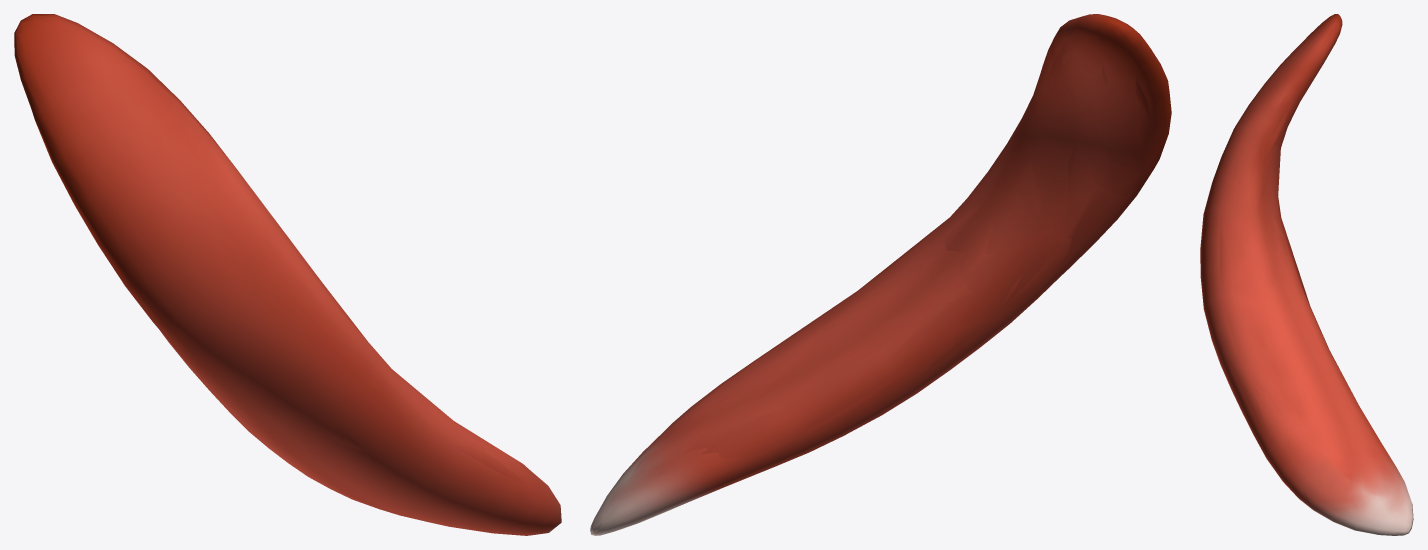
The model's file is R Subclavius.fbx.
3 renders of one model, left to right at view 1: azimuth 30°, elevation 25°; view 2: azimuth 150°, elevation 25°; view 3: azimuth 270°, elevation 25°, orthographic. The views are drawn at different scales.
Parts seen in each view (by area): view 1: R Subclavius, R Subclavius low; view 2: R Subclavius, R Subclavius low; view 3: R Subclavius, R Subclavius low.
Boxes of the visible parts, x1,y1,x2,y2 form: R Subclavius: [14, 14, 561, 535]; R Subclavius low: [14, 14, 561, 531]; R Subclavius: [590, 14, 1171, 535]; R Subclavius low: [593, 14, 1166, 533]; R Subclavius: [1200, 14, 1413, 535]; R Subclavius low: [1206, 14, 1412, 530].
Bounding box in the file's own units: 7.98 × 9.03 × 4.64.
